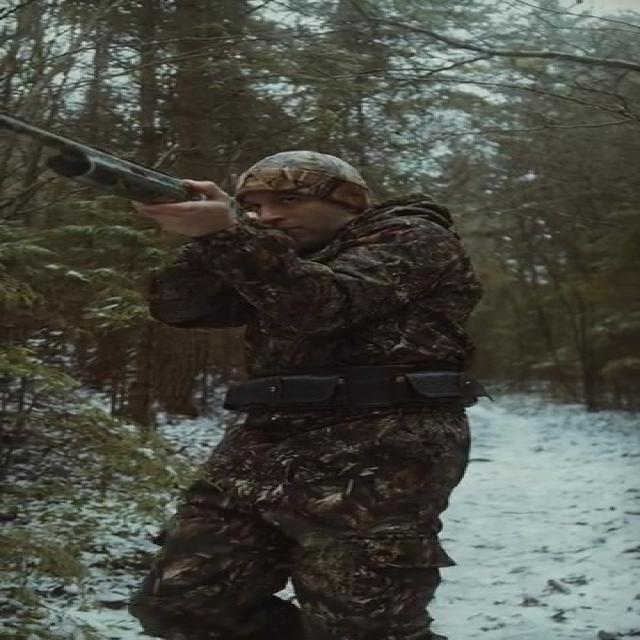Gun_Holder: (0, 112, 263, 241)
Person: (155, 143, 533, 640)
